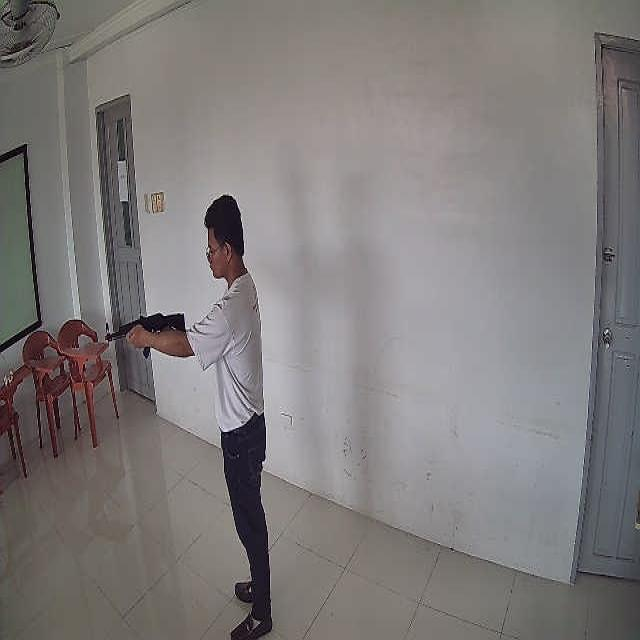rifle: (105, 313, 185, 360)
